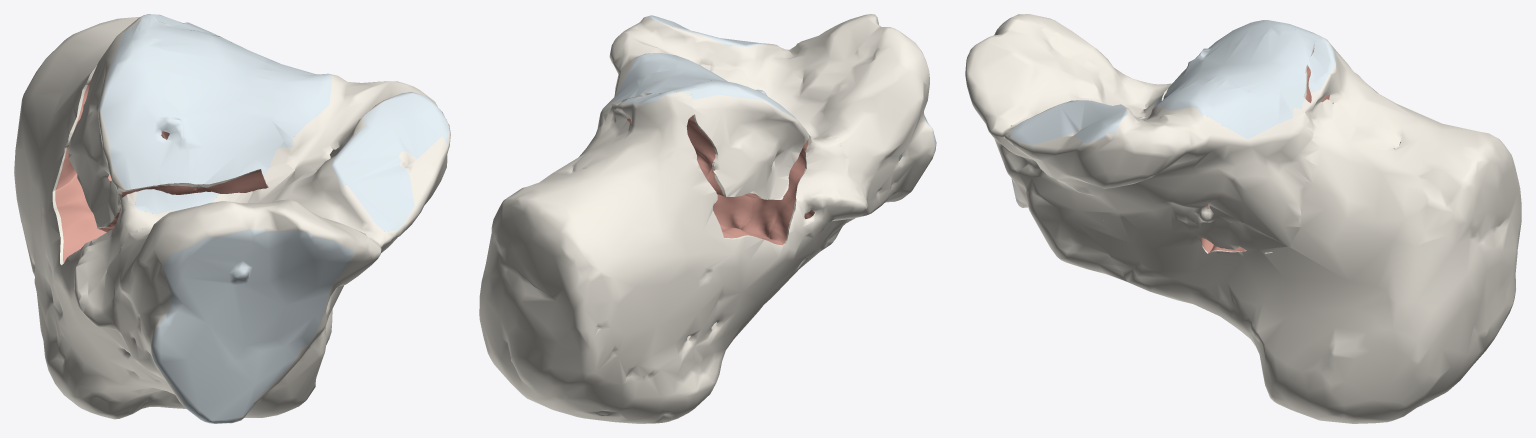
File: S-IIIAB_elderly.glb
3 views of the same model, side by side, from view 1: azimuth 30°, elevation 25°; view 2: azimuth 150°, elevation 25°; view 3: azimuth 270°, elevation 25° (orthographic). The views are drawn at different scales.
Parts seen in each view (by area): view 1: calcaneus: sustentacular fragment, calcaneus: tuberosity, calcaneus: lateral joint fragment, calcaneus: central joint fragment (depressed); view 2: calcaneus: tuberosity, calcaneus: sustentacular fragment, calcaneus: lateral joint fragment, calcaneus: central joint fragment (depressed); view 3: calcaneus: tuberosity, calcaneus: sustentacular fragment, calcaneus: central joint fragment (depressed), calcaneus: lateral joint fragment.
Part boxes in pixels (x1,y1,x2,y2): calcaneus: sustentacular fragment: (79, 56, 450, 423); calcaneus: tuberosity: (14, 14, 332, 419); calcaneus: lateral joint fragment: (68, 28, 198, 231); calcaneus: central joint fragment (depressed): (126, 19, 292, 193); calcaneus: tuberosity: (479, 90, 866, 423); calcaneus: sustentacular fragment: (592, 14, 936, 249); calcaneus: lateral joint fragment: (686, 80, 809, 199); calcaneus: central joint fragment (depressed): (615, 65, 727, 170); calcaneus: tuberosity: (1103, 35, 1521, 423); calcaneus: sustentacular fragment: (965, 14, 1312, 281); calcaneus: central joint fragment (depressed): (1146, 29, 1317, 208); calcaneus: lateral joint fragment: (1166, 20, 1313, 92).
Size of the model in its own units: 0.0475 by 0.0513 by 0.0757.
